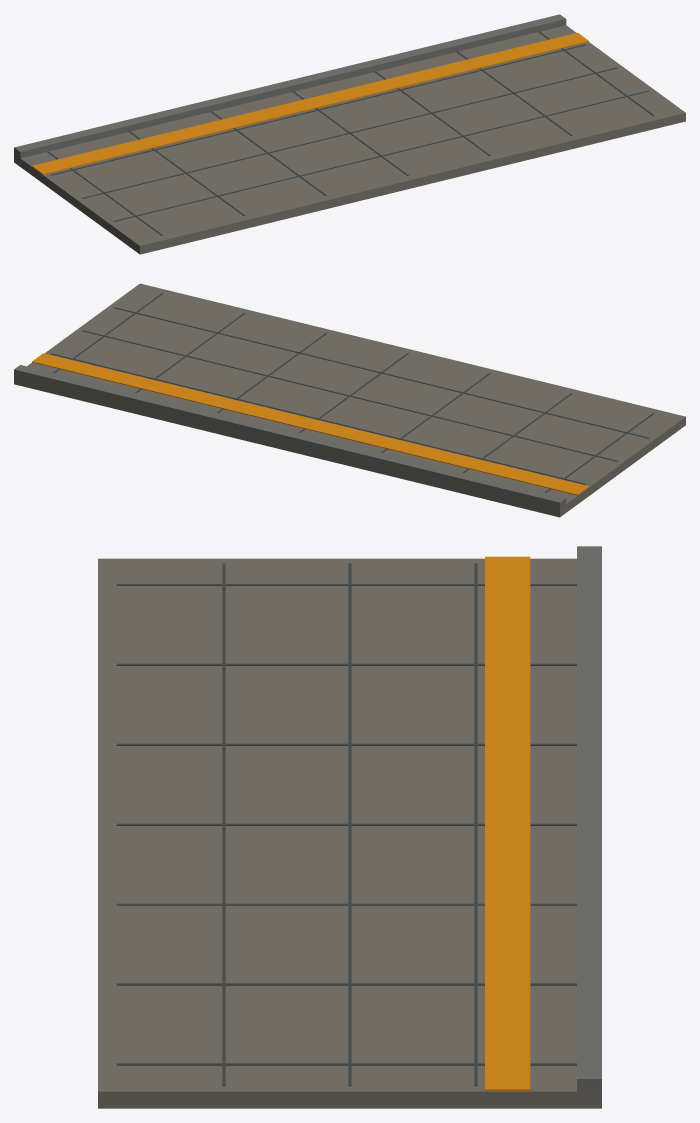
Rendered from sidewalk_10m.obj.
3 views of the same model, one above another, from view 1: azimuth 30°, elevation 25°; view 2: azimuth 150°, elevation 25°; view 3: azimuth 270°, elevation 25° (orthographic). The views are drawn at different scales.
Parts seen in each view (by area): view 1: Sidewalk, Concrete, Yellow_Paint, Paver_Accent; view 2: Sidewalk, Concrete, Yellow_Paint, Paver_Accent; view 3: Sidewalk, Yellow_Paint, Paver_Accent, Concrete.
Part boxes in pixels (x1=…): Sidewalk: x1=14, y1=25, x2=685, y2=254; Concrete: x1=14, y1=14, x2=566, y2=165; Yellow_Paint: x1=32, y1=32, x2=589, y2=174; Paver_Accent: x1=47, y1=31, x2=654, y2=235; Sidewalk: x1=14, y1=283, x2=685, y2=517; Concrete: x1=14, y1=365, x2=566, y2=516; Yellow_Paint: x1=32, y1=353, x2=589, y2=495; Paver_Accent: x1=51, y1=293, x2=654, y2=492; Sidewalk: x1=98, y1=558, x2=601, y2=1108; Yellow_Paint: x1=485, y1=556, x2=530, y2=1090; Paver_Accent: x1=116, y1=563, x2=576, y2=1086; Concrete: x1=577, y1=546, x2=601, y2=1108.
Size of the model in its own units: 10 by 0.26 by 4.
